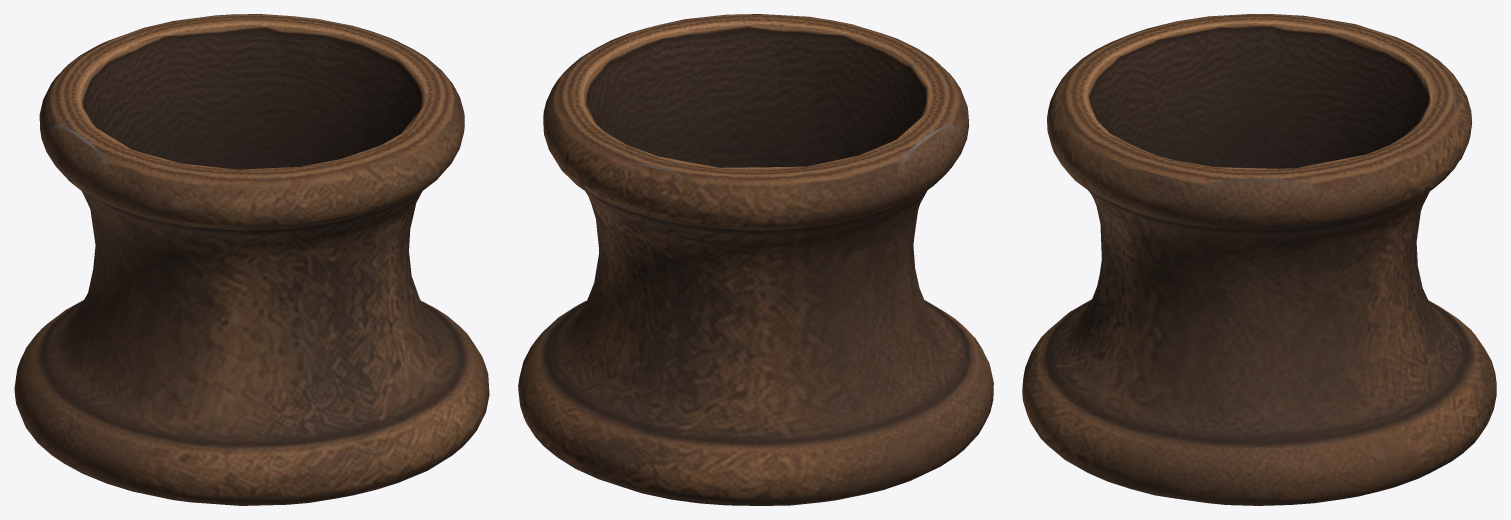
File: obj_crystal_holder.glb
3 views of the same model, side by side, from view 1: azimuth 30°, elevation 25°; view 2: azimuth 150°, elevation 25°; view 3: azimuth 270°, elevation 25° (orthographic).
Parts seen in each view (by area): view 1: Mesh_0; view 2: Mesh_0; view 3: Mesh_0.
Boxes of the visible parts, box(x1,y1,x2,y2) form: Mesh_0: box(14, 14, 489, 505); Mesh_0: box(518, 14, 993, 505); Mesh_0: box(1022, 14, 1496, 505).
Size of the model in its own units: 1.9 by 1.41 by 1.9.
Materials: 1 (1 with a texture image).
